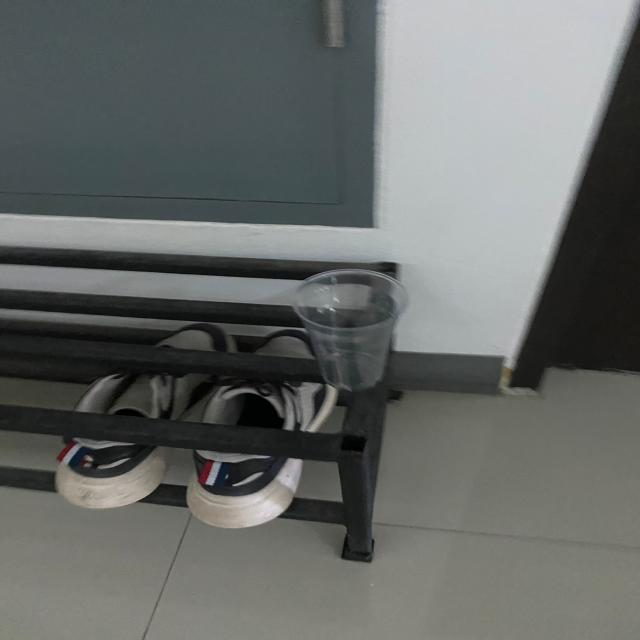glass: (286, 266, 417, 400)
